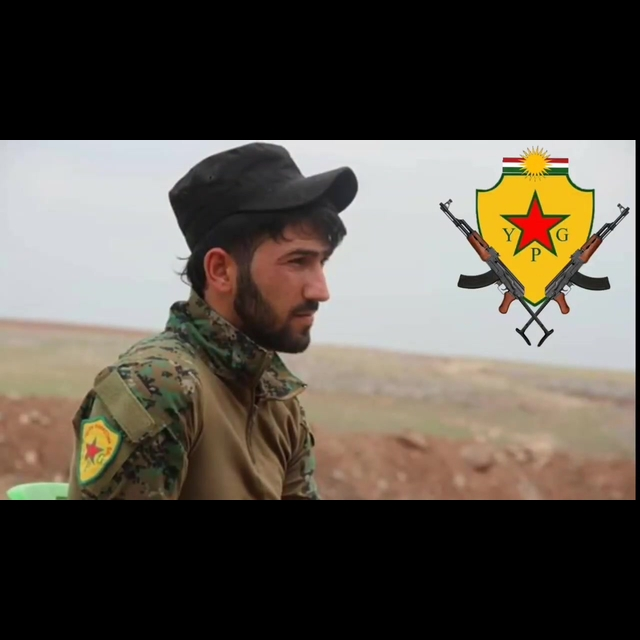YPG: (68, 406, 123, 487)
